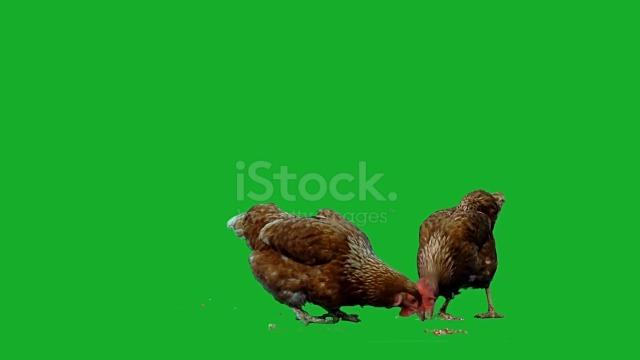Normal: (229, 195, 434, 326), (415, 177, 511, 324)
